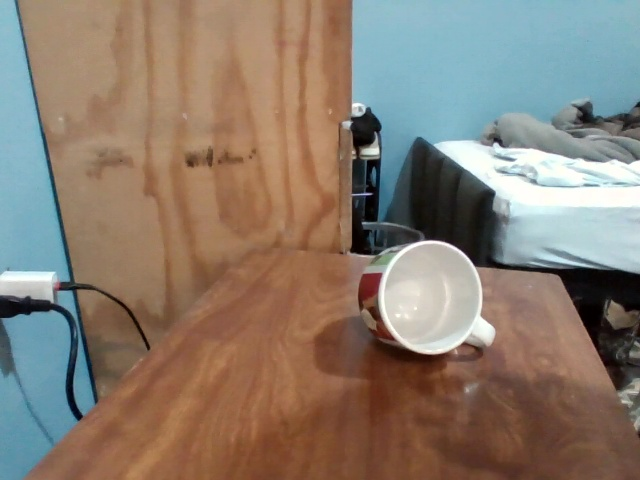taza: (369, 239, 495, 356)
